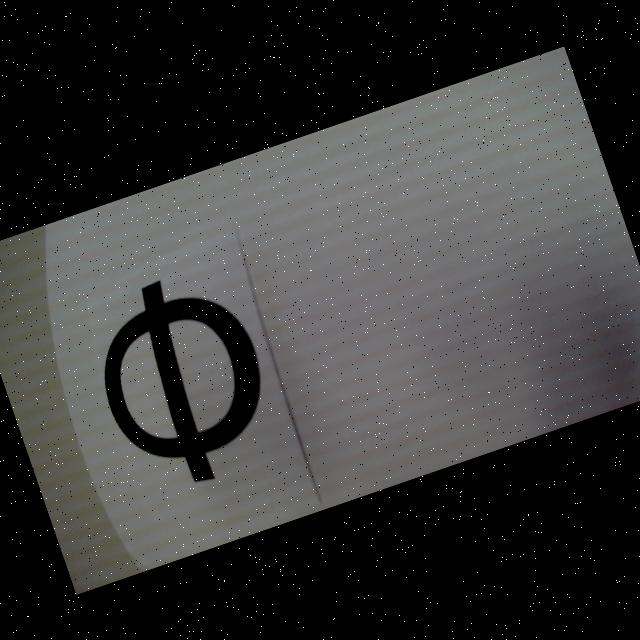PHI: (76, 256, 292, 506)
